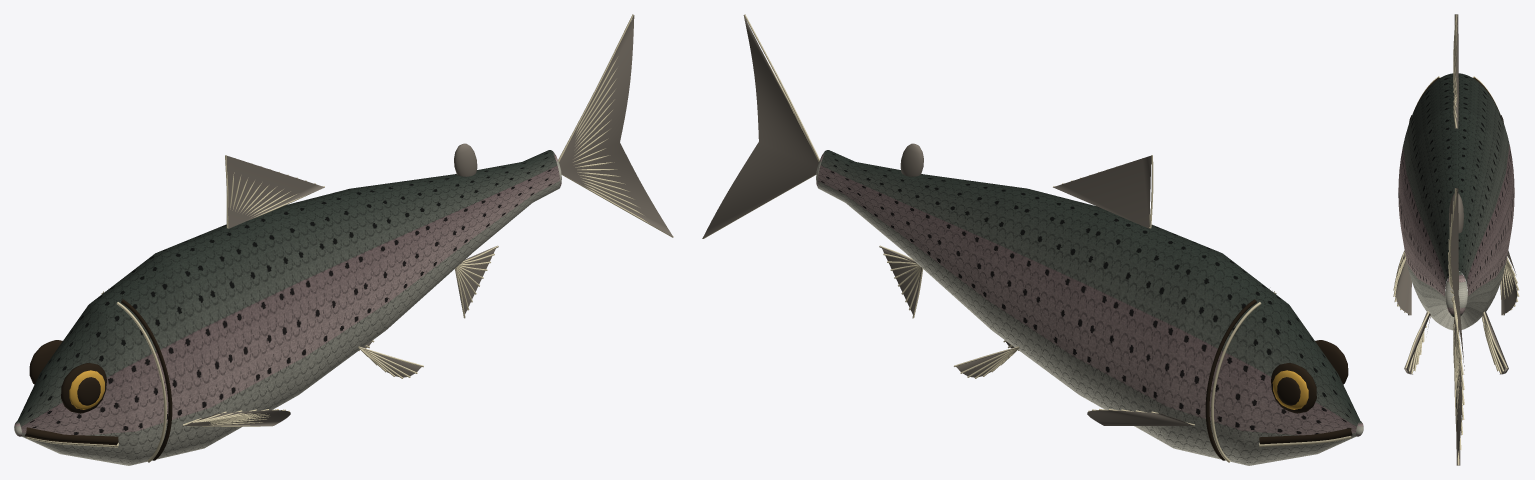
The model's file is bramble_trout.glb.
3 views of the same model, side by side, from view 1: azimuth 30°, elevation 25°; view 2: azimuth 150°, elevation 25°; view 3: azimuth 270°, elevation 25° (orthographic). The views are drawn at different scales.
Parts seen in each view (by area): view 1: scaled skin with continuous back and belly, ribbed fin membrane, fin rays and lip rim, mouth, gill creases and pupils; view 2: scaled skin with continuous back and belly, ribbed fin membrane, mouth, gill creases and pupils, fin rays and lip rim; view 3: scaled skin with continuous back and belly, ribbed fin membrane, fin rays and lip rim.
Part boxes in pixels (left/top/right/bottom): scaled skin with continuous back and belly: left=14, top=150, right=561, bottom=465; ribbed fin membrane: left=184, top=15, right=673, bottom=425; fin rays and lip rim: left=26, top=14, right=673, bottom=462; mouth, gill creases and pupils: left=25, top=299, right=172, bottom=460; scaled skin with continuous back and belly: left=816, top=150, right=1363, bottom=465; ribbed fin membrane: left=702, top=15, right=1194, bottom=425; mouth, gill creases and pupils: left=1205, top=299, right=1352, bottom=460; fin rays and lip rim: left=702, top=14, right=1351, bottom=462; scaled skin with continuous back and belly: left=1398, top=73, right=1514, bottom=330; ribbed fin membrane: left=1396, top=14, right=1516, bottom=465; fin rays and lip rim: left=1393, top=14, right=1519, bottom=465.
Bounding box in the file's own units: 0.4939 × 0.2335 × 0.0757.
Materials: 5 (1 with a texture image).
